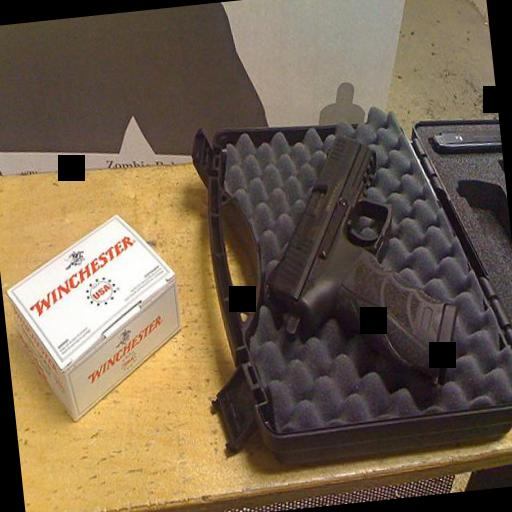Handgun: (252, 126, 466, 404)
